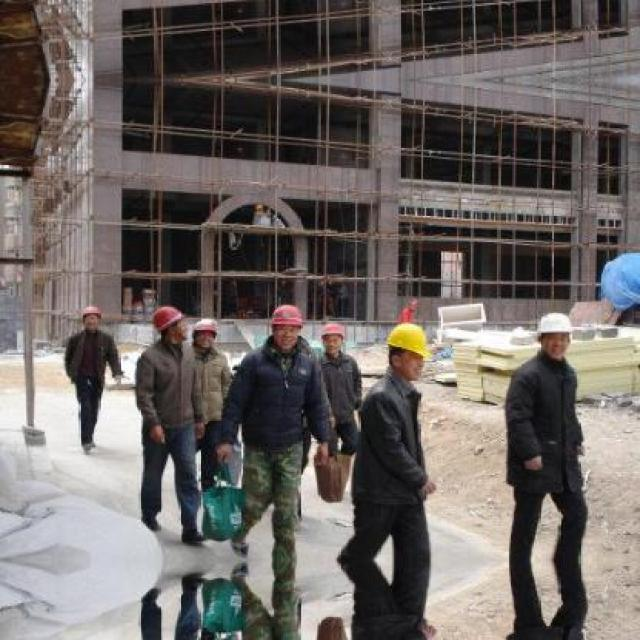helmet: (382, 322, 431, 382), (533, 308, 572, 356), (268, 301, 301, 348), (151, 300, 187, 340), (190, 316, 216, 350), (320, 317, 346, 351), (78, 302, 100, 332)
